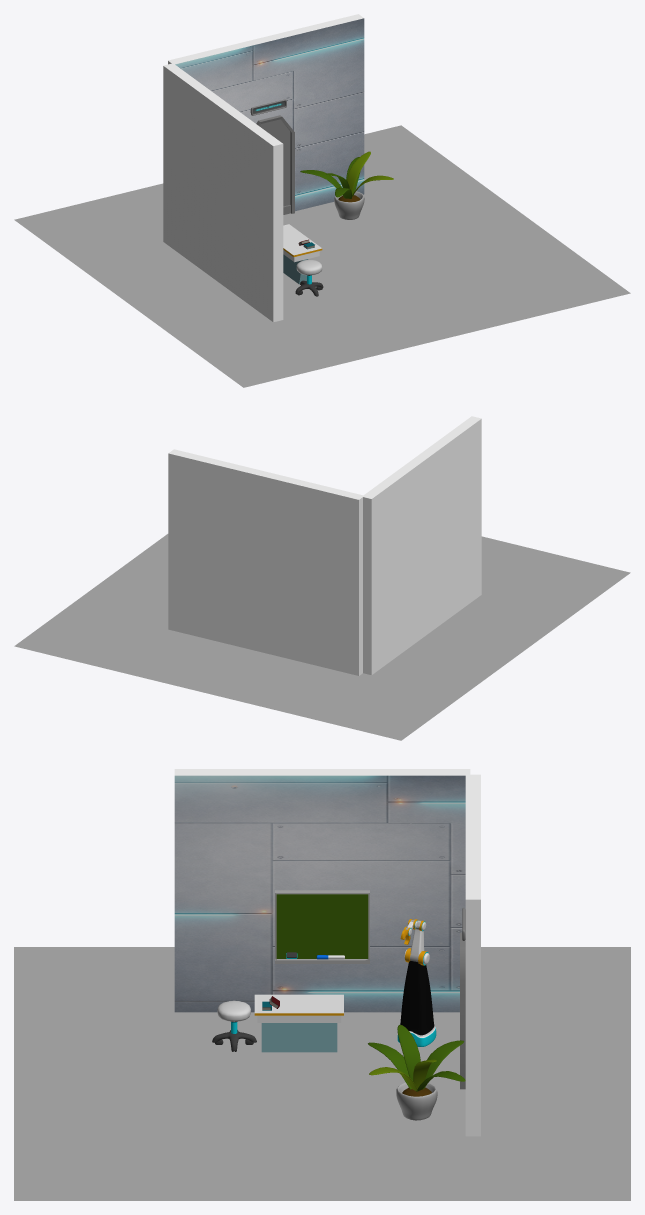
Rendered from MODELOS VIEW 2.fbx.
3 renders of one model, top to bottom at view 1: azimuth 30°, elevation 25°; view 2: azimuth 150°, elevation 25°; view 3: azimuth 270°, elevation 25°, orthographic. The views are drawn at different scales.
Visible parts, largest first — view 1: PISO, PARED1, PARED, puerta, pasted__pCube19, polySurface25, pCube1; view 2: PISO, PARED, PARED1; view 3: PISO, PARED1, PIZARRON2, PARED, pasted__pCube19, ROBOT, polySurface25, pCube1, puerta, pCube7.
Boxes of the visible parts, x1,y1,x2,y2 form: PISO: (14,125,630,387); PARED1: (163,63,283,322); PARED: (168,14,364,211); puerta: (256,115,294,214); pasted__pCube19: (283,224,322,284); polySurface25: (295,259,323,296); pCube1: (334,191,364,219); PISO: (14,534,630,740); PARED: (168,449,363,675); PARED1: (362,416,481,675); PISO: (14,947,630,1200); PARED1: (174,769,470,1012); PIZARRON2: (275,890,369,963); PARED: (465,774,480,1136); pasted__pCube19: (254,994,343,1052); ROBOT: (397,960,436,1046); polySurface25: (212,1000,256,1051); pCube1: (396,1082,437,1120); puerta: (460,932,465,1089); pCube7: (397,1024,420,1081).
Bounding box in the file's own units: 48.1 × 21.23 × 49.4.
22 materials, 2 textured.
